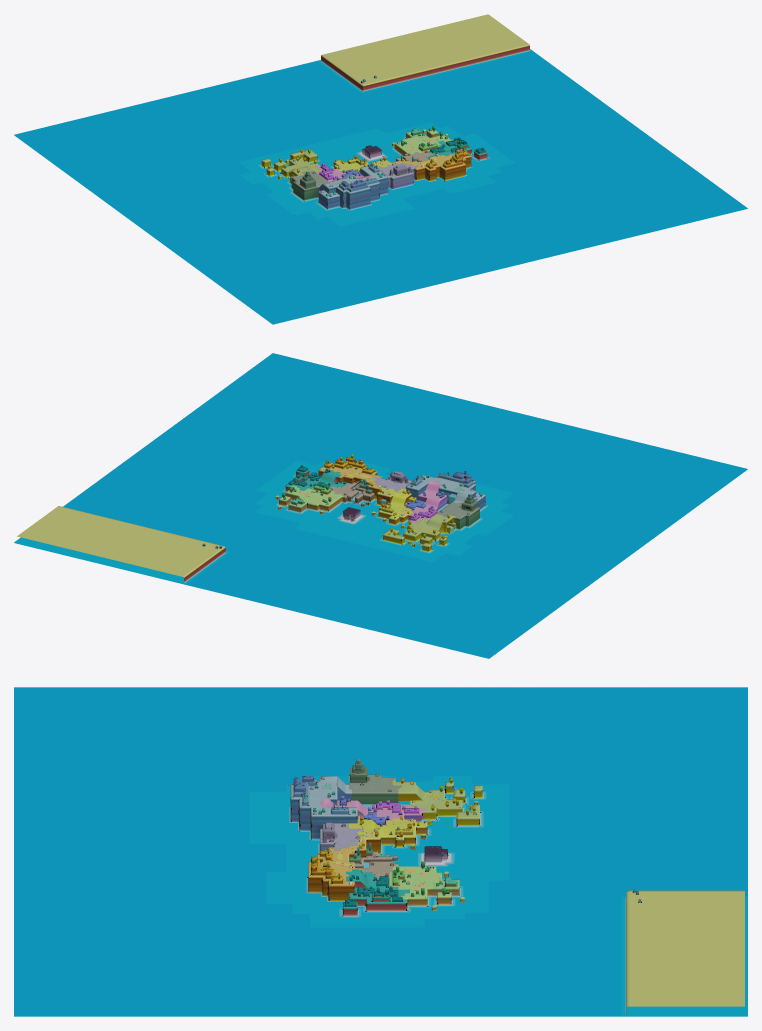
Rendered from W_island.fbx.
3 views of the same model, one above another, from view 1: azimuth 30°, elevation 25°; view 2: azimuth 150°, elevation 25°; view 3: azimuth 270°, elevation 25° (orthographic). The views are drawn at different scales.
Parts seen in each view (by area): view 1: W_island; view 2: W_island; view 3: W_island.
Part boxes in pixels (left/top/right/bottom): W_island: left=14, top=14, right=747, bottom=324; W_island: left=14, top=353, right=747, bottom=658; W_island: left=14, top=687, right=747, bottom=1016.
Bounding box in the file's own units: 267 × 14.45 × 252.
Materials: 1 (1 with a texture image).
